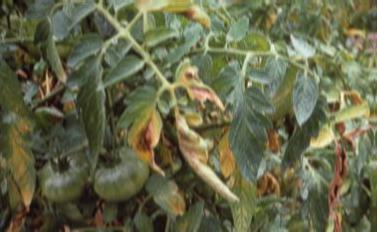Tomato Early blight leaf: (173, 108, 243, 200), (1, 113, 40, 232), (128, 83, 167, 173), (176, 62, 234, 109), (35, 12, 70, 84), (140, 0, 219, 29)
Tomato leaf: (72, 60, 110, 163), (230, 85, 269, 180), (295, 70, 318, 126)
